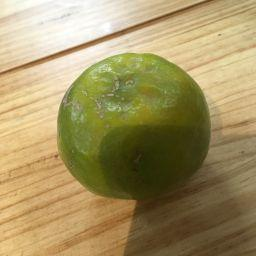Unripe: (58, 55, 213, 200)
